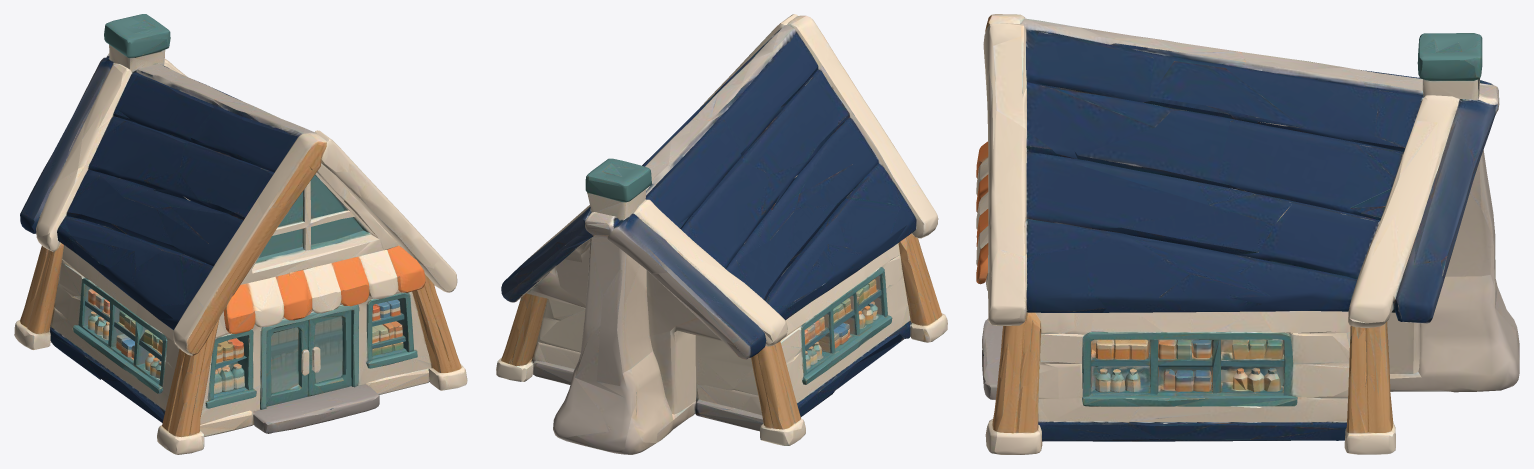
The model's file is furnitureShop.glb.
3 renders of one model, left to right at view 1: azimuth 30°, elevation 25°; view 2: azimuth 150°, elevation 25°; view 3: azimuth 270°, elevation 25°, orthographic. The views are drawn at different scales.
Visible parts, largest first — view 1: Mesh_0; view 2: Mesh_0; view 3: Mesh_0.
Part boxes in pixels (box(x1,y1,x2,y2)): Mesh_0: box(14, 14, 467, 454); Mesh_0: box(496, 14, 947, 454); Mesh_0: box(976, 14, 1519, 454).
Bounding box in the file's own units: 2.2 × 1.98 × 2.8.
1 material, 1 textured.
